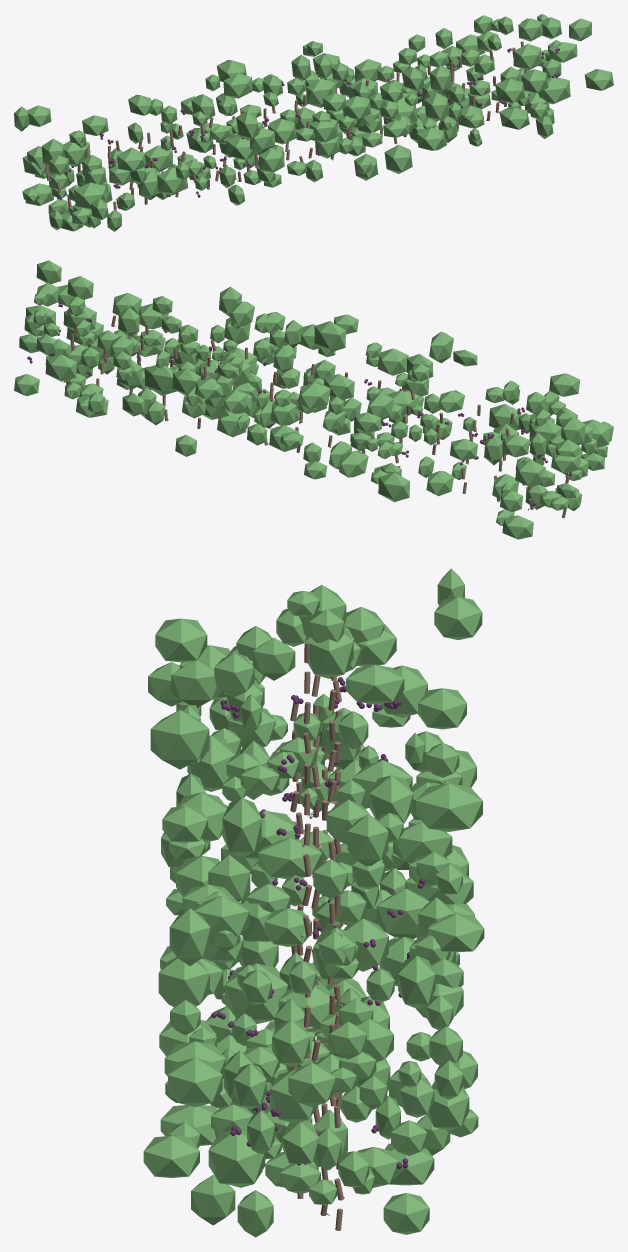
3 renders of one model, top to bottom at view 1: azimuth 30°, elevation 25°; view 2: azimuth 150°, elevation 25°; view 3: azimuth 270°, elevation 25°, orthographic. The views are drawn at different scales.
Parts seen in each view (by area): view 1: Icosphere.146, Icosphere.233, Icosphere.149, Icosphere.074, Icosphere.228, Icosphere.004, Icosphere.238, Icosphere.181, Icosphere.162, Icosphere.100, Icosphere.152, Icosphere.125 (+43 smaller); view 2: Icosphere.228, Icosphere.167, Icosphere.090, Icosphere.071, Icosphere.127, Icosphere.015, Icosphere.104, Icosphere.232, Icosphere.246, Icosphere.181, Icosphere.238, Icosphere.117 (+33 smaller); view 3: Icosphere.071, Icosphere.070, Icosphere.149, Icosphere.045, Icosphere.193, Icosphere.162, Icosphere.018, Icosphere.117, Icosphere.143, Icosphere.228, Icosphere.061, Icosphere.122 (+61 smaller).
Part boxes in pixels (x1,y1,x2,y2): Icosphere.146: [74, 182, 107, 209]; Icosphere.233: [384, 144, 412, 173]; Icosphere.149: [538, 77, 570, 104]; Icosphere.074: [513, 44, 542, 70]; Icosphere.228: [306, 78, 335, 107]; Icosphere.004: [495, 78, 525, 103]; Icosphere.238: [223, 73, 252, 98]; Icosphere.181: [157, 167, 187, 195]; Icosphere.162: [424, 92, 449, 121]; Icosphere.100: [416, 127, 445, 150]; Icosphere.152: [499, 106, 529, 129]; Icosphere.125: [225, 134, 257, 159]; Icosphere.228: [314, 321, 345, 352]; Icosphere.167: [378, 472, 409, 502]; Icosphere.090: [144, 365, 176, 395]; Icosphere.071: [298, 382, 330, 408]; Icosphere.127: [45, 354, 76, 381]; Icosphere.015: [377, 348, 408, 375]; Icosphere.104: [515, 459, 545, 487]; Icosphere.232: [339, 450, 368, 477]; Icosphere.246: [502, 515, 533, 539]; Icosphere.181: [489, 404, 521, 430]; Icosphere.238: [324, 374, 354, 399]; Icosphere.117: [549, 373, 580, 396]; Icosphere.071: [416, 783, 482, 831]; Icosphere.070: [150, 710, 209, 769]; Icosphere.149: [208, 1130, 265, 1185]; Icosphere.045: [168, 1058, 222, 1107]; Icosphere.193: [143, 1135, 199, 1178]; Icosphere.162: [158, 957, 209, 1006]; Icosphere.018: [258, 838, 322, 878]; Icosphere.117: [155, 618, 207, 662]; Icosphere.143: [346, 665, 404, 704]; Icosphere.228: [222, 798, 261, 856]; Icosphere.061: [225, 963, 288, 1023]; Icosphere.122: [169, 908, 210, 965].
Bounding box in the file's own units: 10.81 × 2.18 × 2.96.
